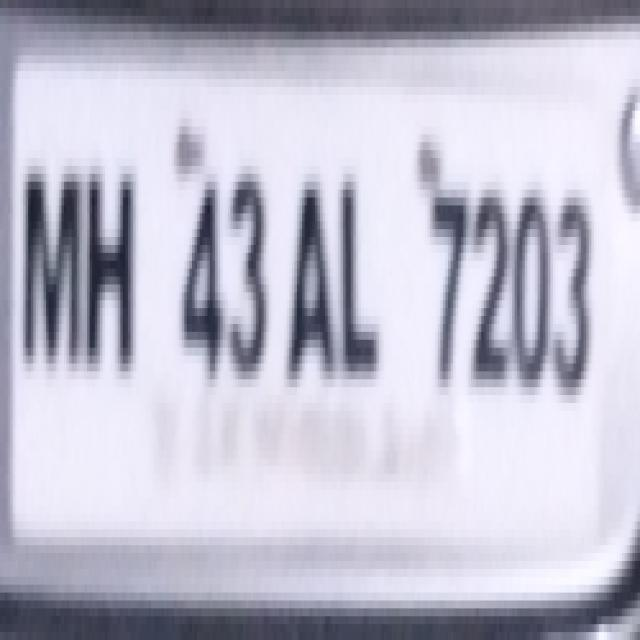0: (512, 178, 550, 390)
3: (228, 168, 270, 384), (554, 192, 594, 409)
4: (178, 172, 225, 385)
7: (424, 174, 467, 390)
A: (285, 184, 338, 401)
H: (86, 162, 141, 382)
L: (338, 182, 384, 391)
M: (17, 157, 82, 370)
